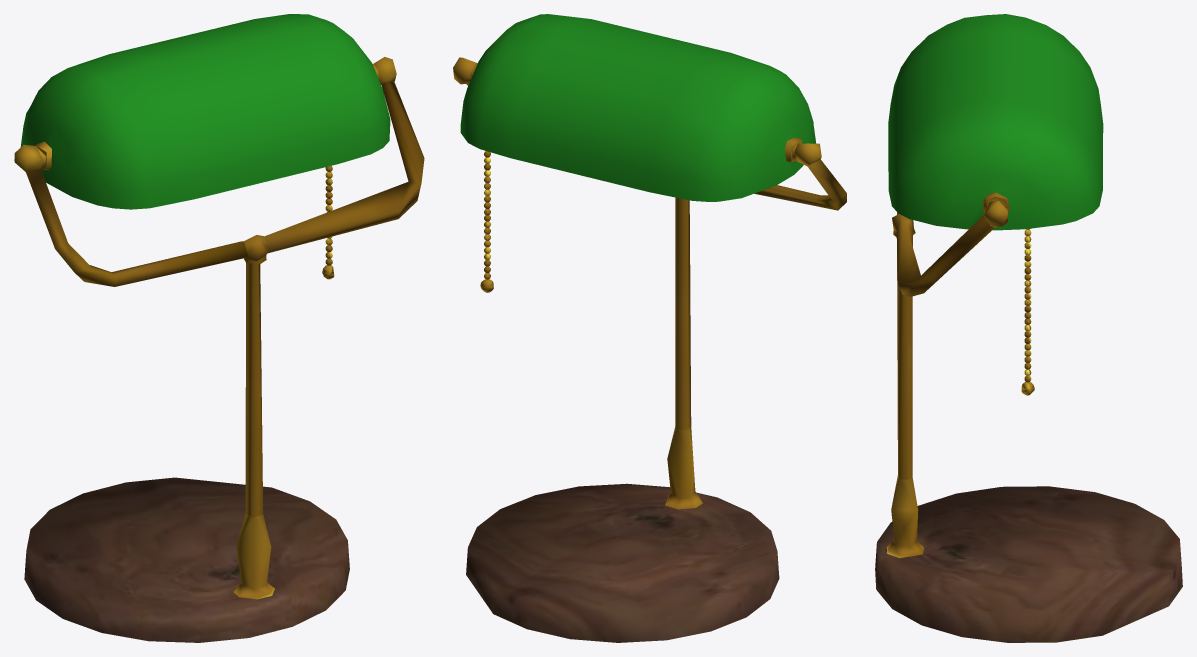
File: bankers_lamp.glb
3 renders of one model, left to right at view 1: azimuth 30°, elevation 25°; view 2: azimuth 150°, elevation 25°; view 3: azimuth 270°, elevation 25°, orthographic. The views are drawn at different scales.
Parts seen in each view (by area): view 1: Object_4, Object_3, Object_6; view 2: Object_4, Object_3, Object_6; view 3: Object_4, Object_3, Object_6.
Part boxes in pixels (box(x1,y1,x2,y2)): Object_4: box(20, 14, 390, 209); Object_3: box(24, 477, 349, 642); Object_6: box(14, 57, 424, 599); Object_4: box(460, 14, 816, 201); Object_3: box(466, 483, 779, 642); Object_6: box(453, 57, 846, 509); Object_4: box(888, 14, 1103, 230); Object_3: box(875, 486, 1182, 642); Object_6: box(886, 192, 1034, 558).
Size of the model in its own units: 10.92 by 14.89 by 8.07.
5 materials, 2 textured.
